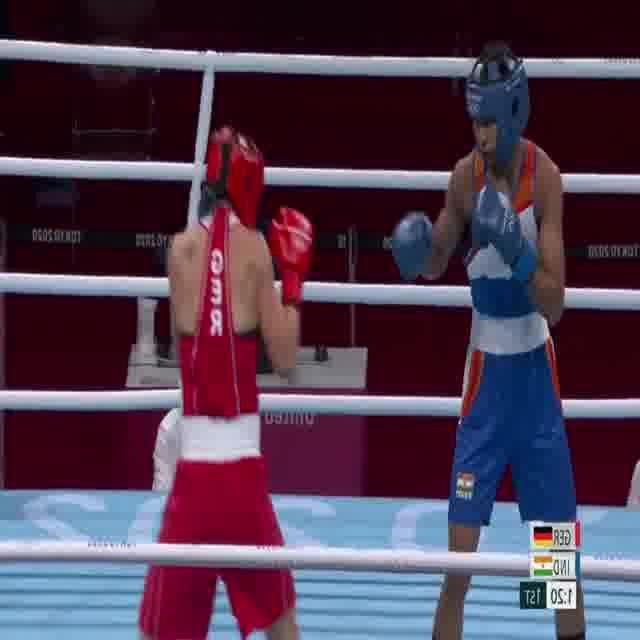blue-player: (390, 39, 588, 640)
red-player: (132, 123, 322, 640)
